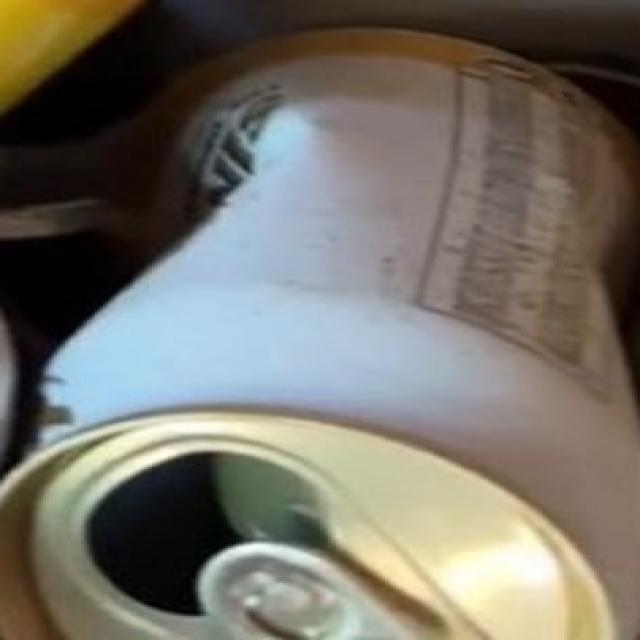can: (24, 0, 640, 618)
